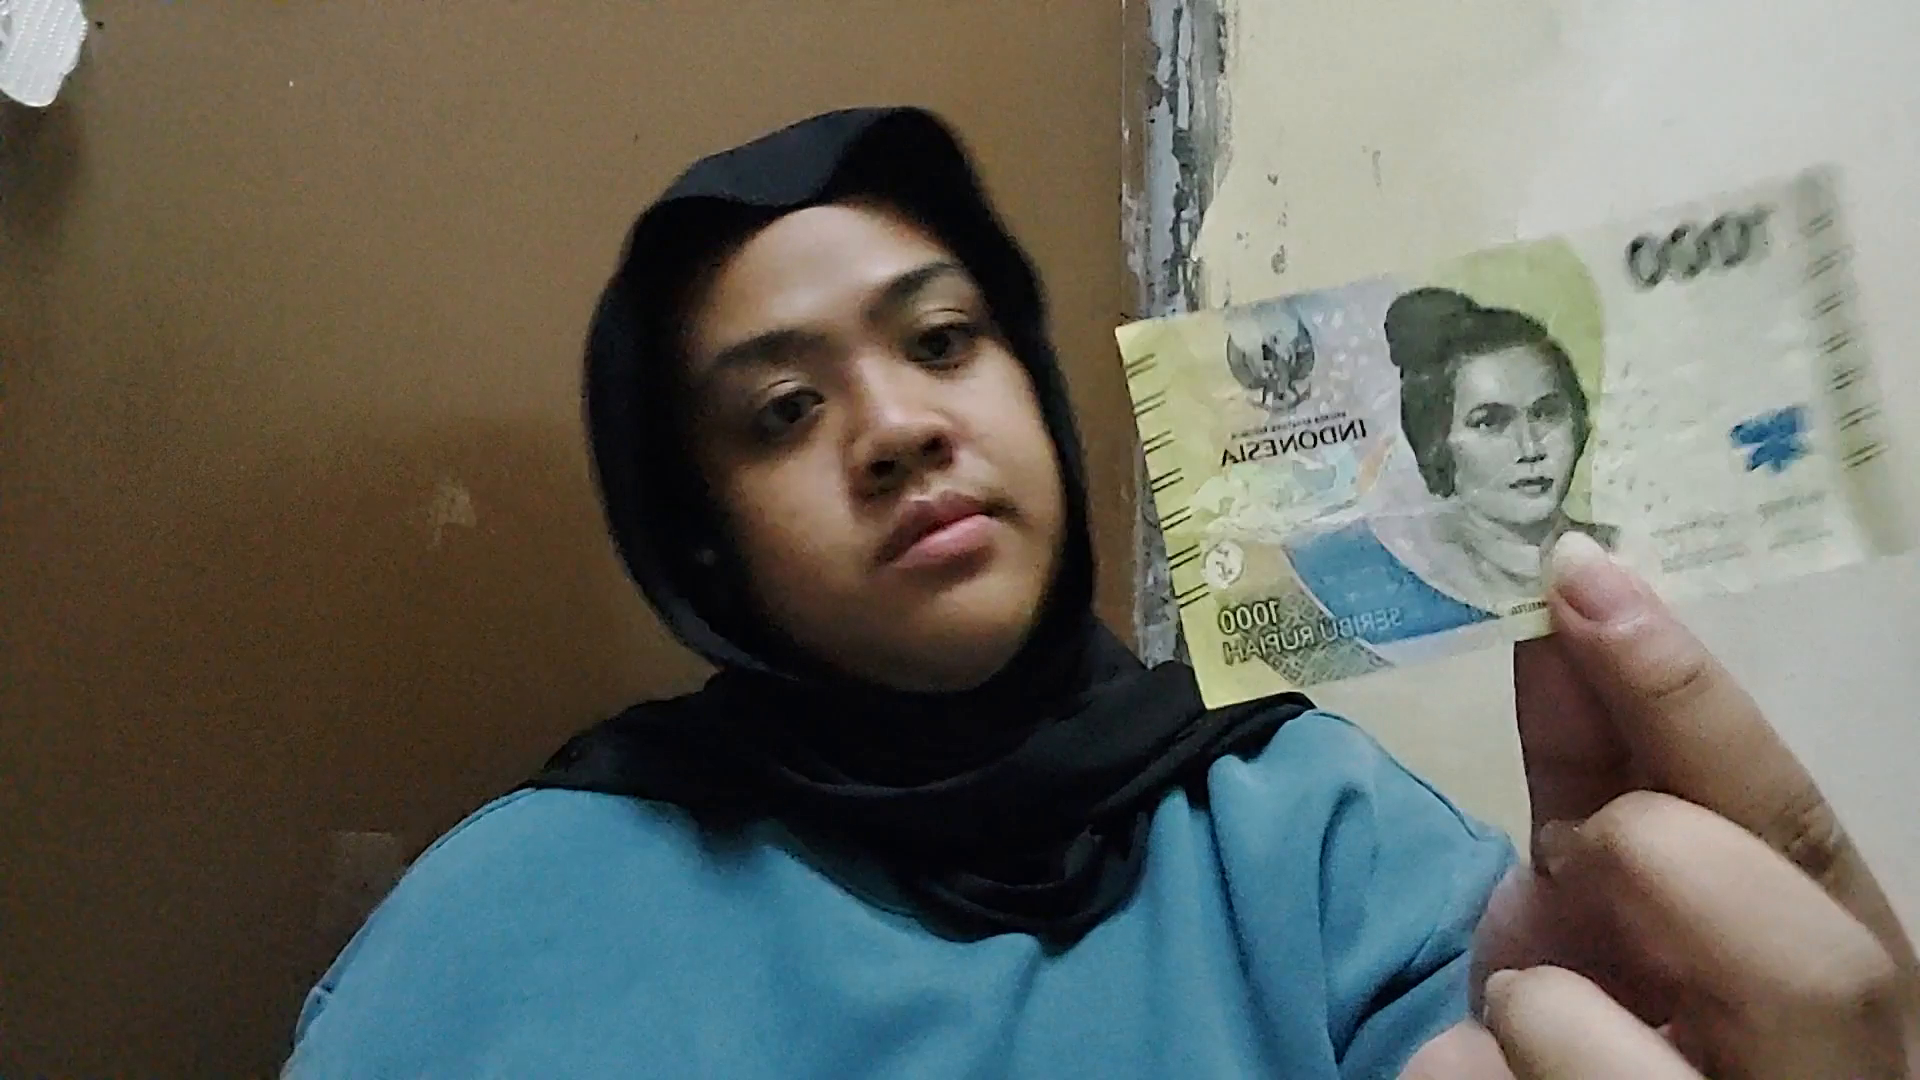1k: (1117, 326, 1846, 725)
